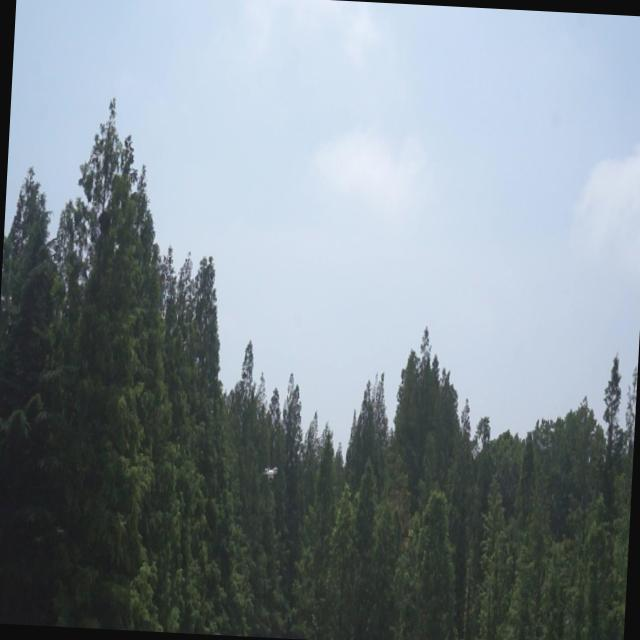drone: (261, 460, 282, 486)
